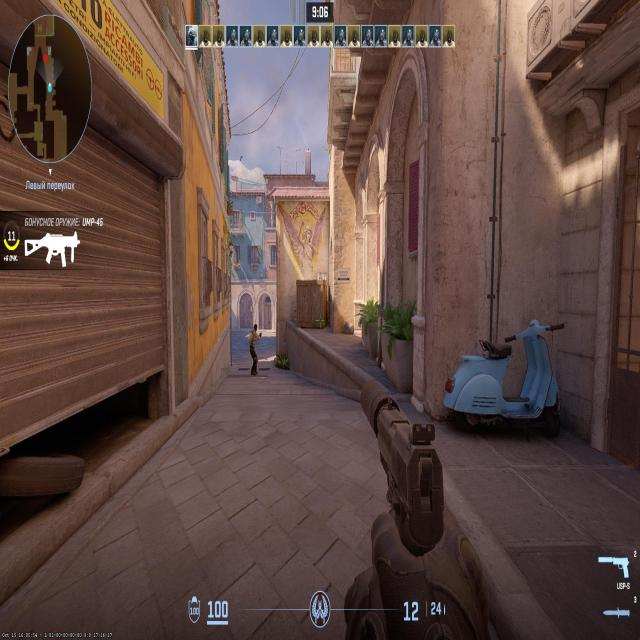T: (252, 320, 258, 369)
T_heat: (253, 322, 256, 329)
